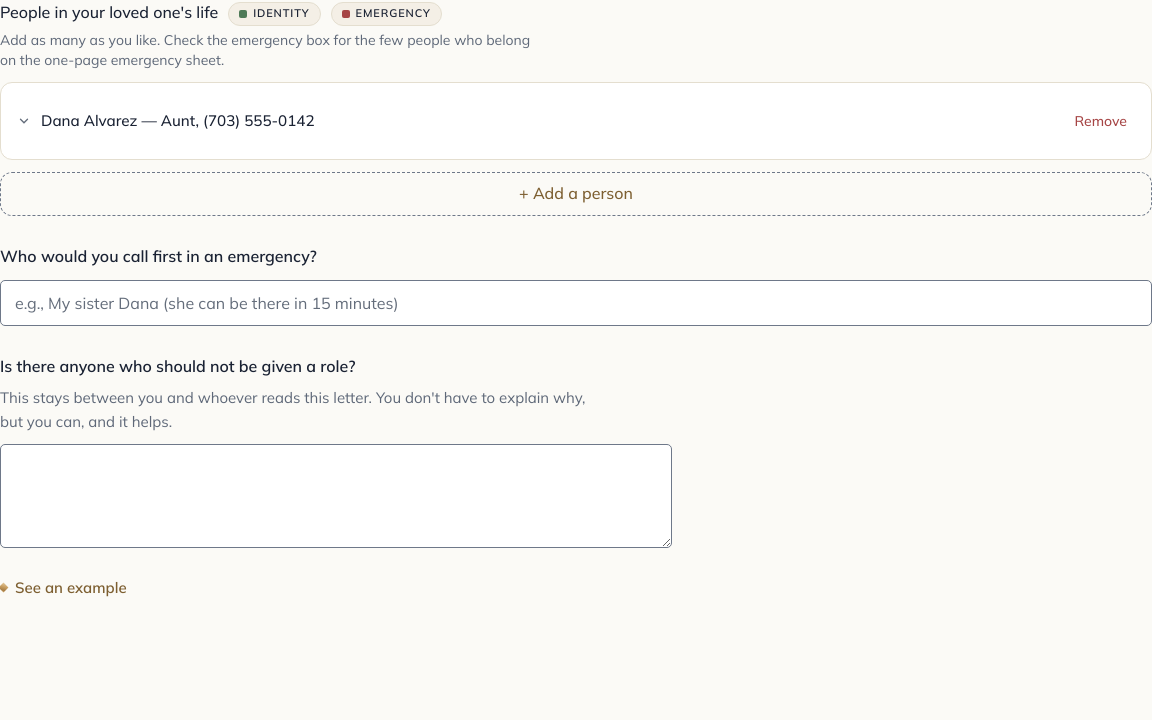
Scenario: SectionForm › collapses a stored record to a one-line summary and expands it back
Expected: the field labelled "Name" is not shown
What coordinates should you click on to do the following:
click the button "Dana Alvarez — Aunt, (703) 555-0142"
I would click on:
 (64, 119)
Its box is [17,99,1058,143].
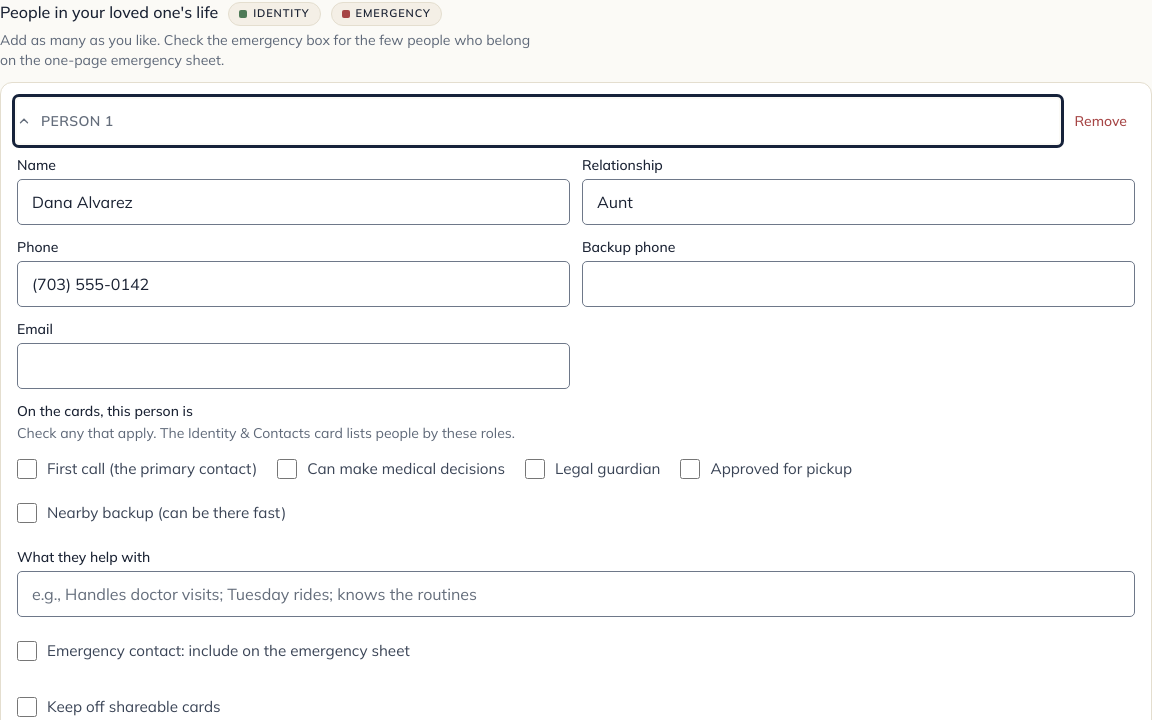
Expected: the field labelled "Name" holds "Dana Alvarez", [17,179,570,225]
Expected: the button "person 1" is expanded, [17,99,1058,143]
